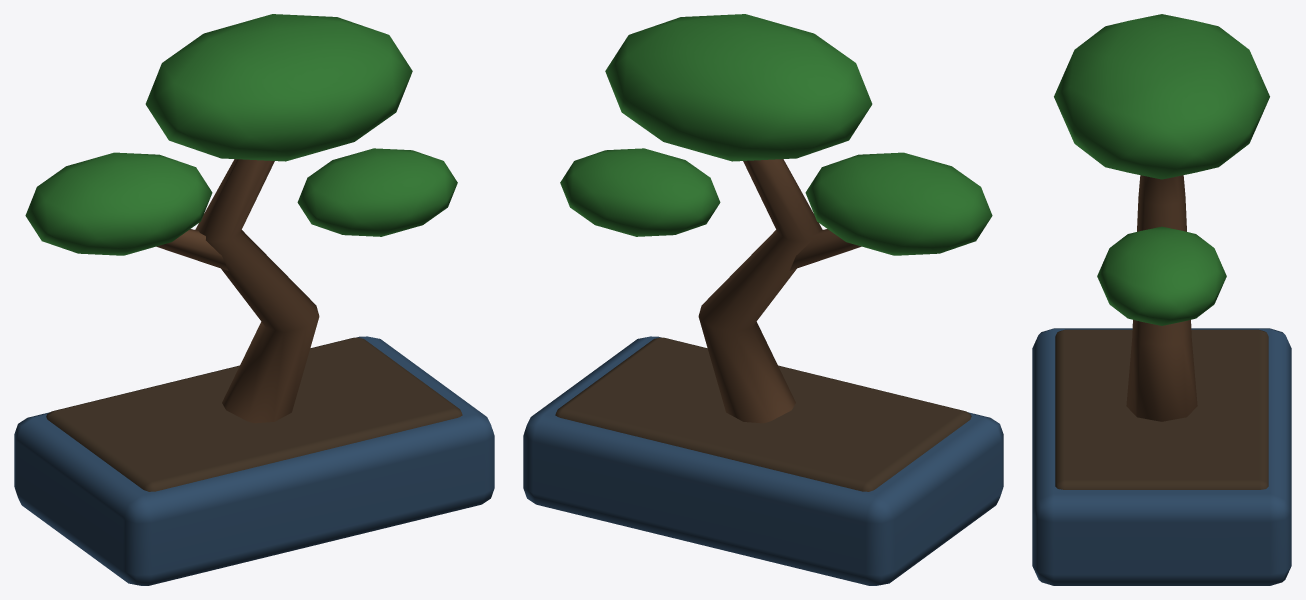
File: furn_bonsai.glb
3 views of the same model, side by side, from view 1: azimuth 30°, elevation 25°; view 2: azimuth 150°, elevation 25°; view 3: azimuth 270°, elevation 25° (orthographic).
Parts seen in each view (by area): view 1: furn_bonsai_main; view 2: furn_bonsai_main; view 3: furn_bonsai_main.
Part boxes in pixels (x1,y1,x2,y2): furn_bonsai_main: [14, 14, 494, 585]; furn_bonsai_main: [523, 14, 1003, 585]; furn_bonsai_main: [1032, 14, 1291, 585].
Size of the model in its own units: 0.3336 by 0.365 by 0.18.
